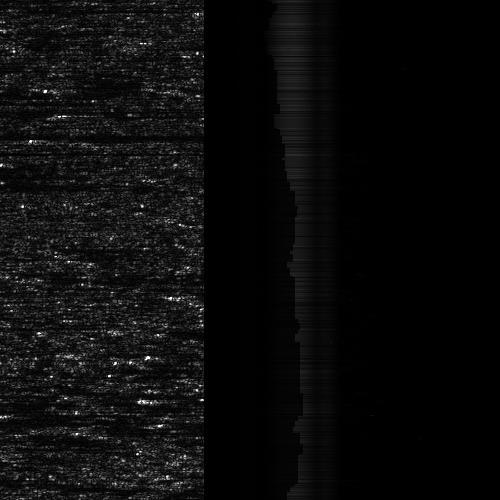shadow: (0, 119, 152, 148)
